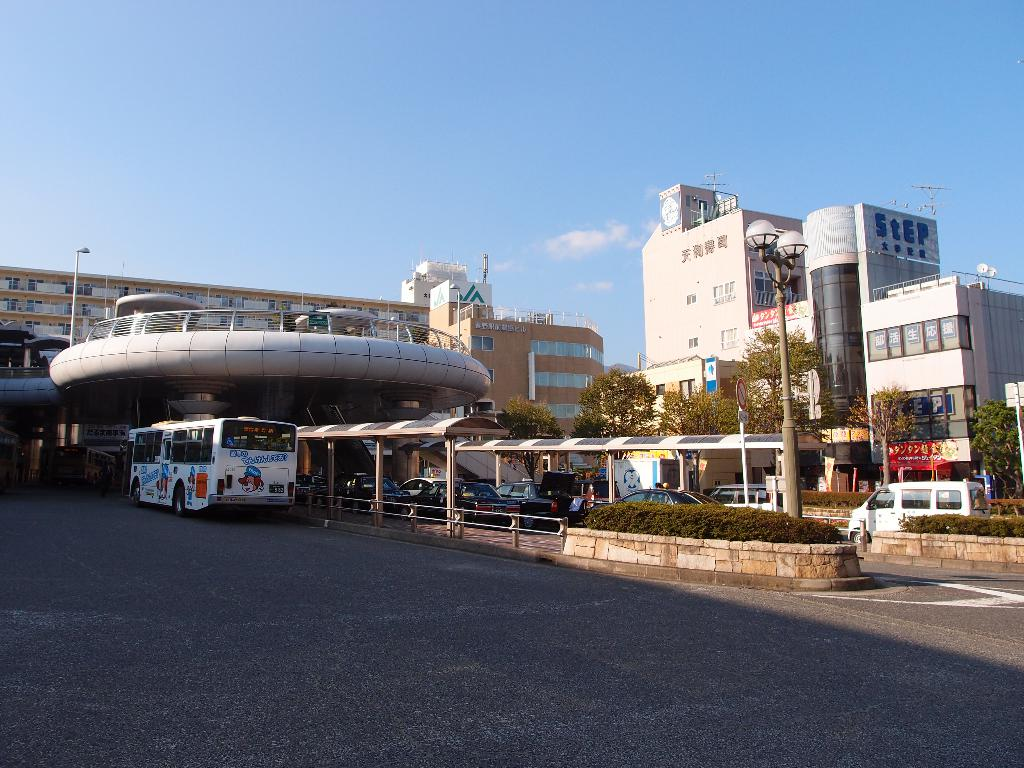Bus: (131, 417, 300, 515)
